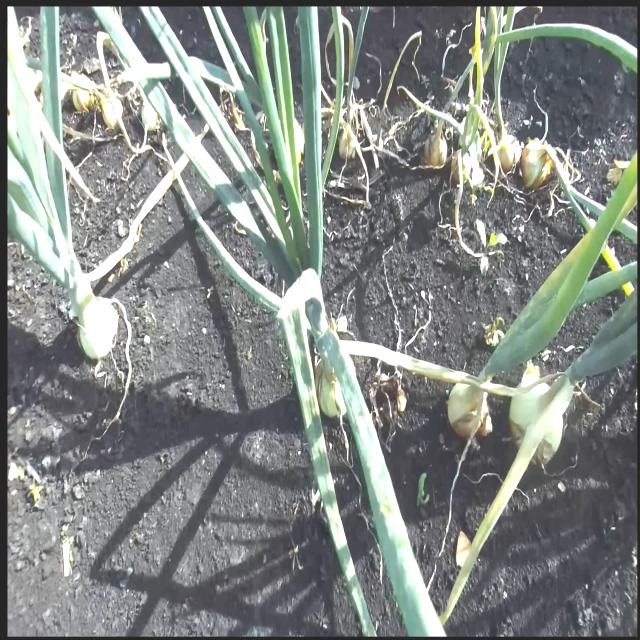onion: (510, 376, 563, 466), (77, 289, 116, 361), (448, 381, 488, 439), (524, 138, 559, 188), (99, 90, 122, 133), (450, 144, 473, 185), (499, 134, 518, 176), (427, 137, 445, 168)
